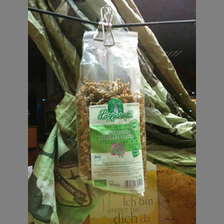pasta: (77, 27, 147, 195)
